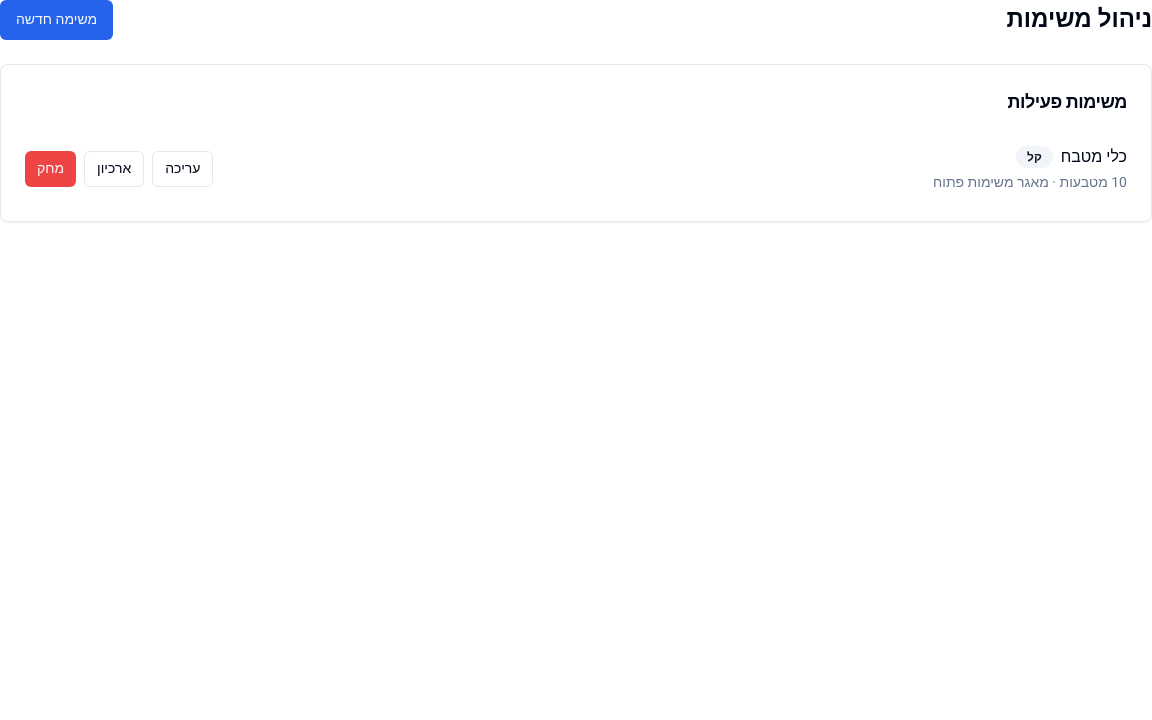
ChoresPage › delete button click with no pending completions opens dialog
Click the button "מחק". click: click(51, 169)
box: top-left (25, 151), bottom-right (76, 187)
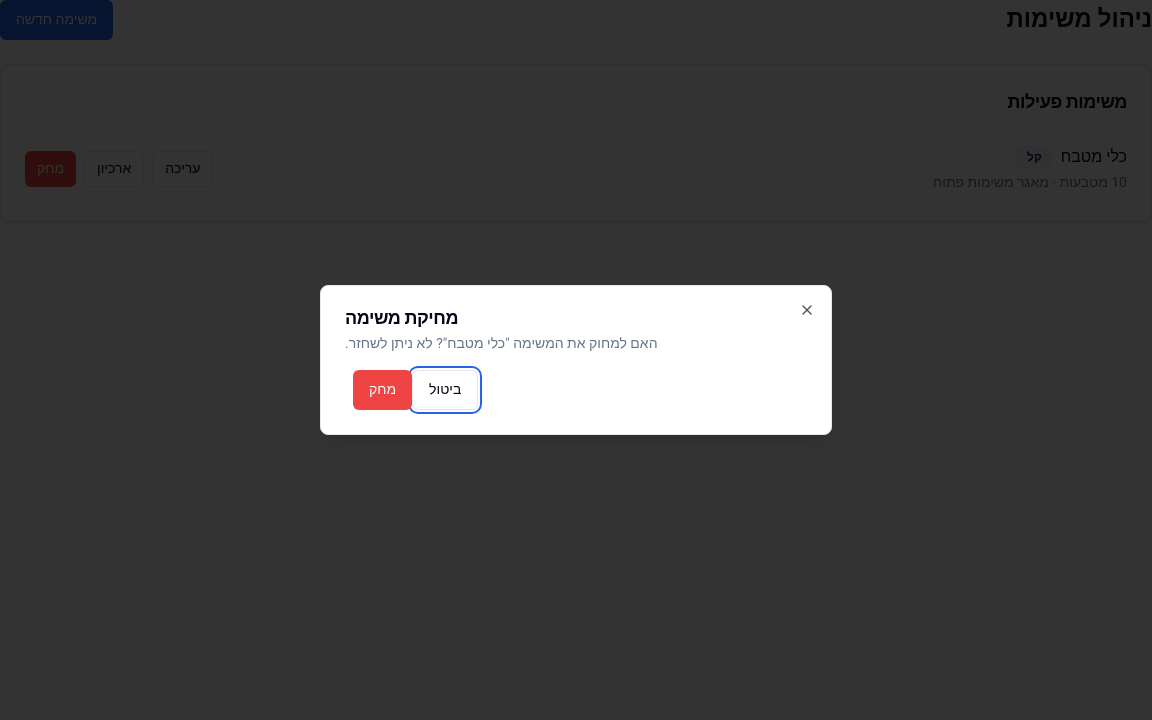
expect the dialog is shown: met, box top-left (320, 285), bottom-right (832, 435)
expect the text "האם למחוק את המשימה \"כלי מטבח\"? לא ניתן לשחזר." is shown: met, box top-left (345, 333), bottom-right (658, 354)
